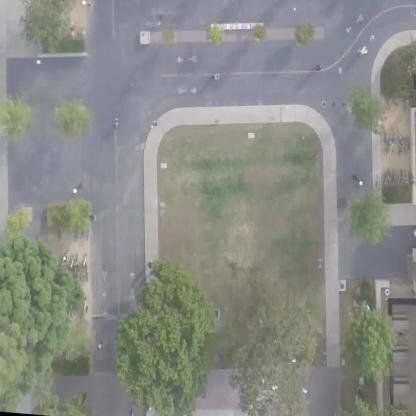Bicyclist: (356, 42, 374, 62), (204, 67, 224, 83), (110, 111, 126, 131), (310, 61, 326, 77), (154, 10, 169, 25), (95, 335, 104, 357)
Pedestrian: (145, 256, 160, 278), (85, 211, 102, 229), (148, 118, 162, 132)
